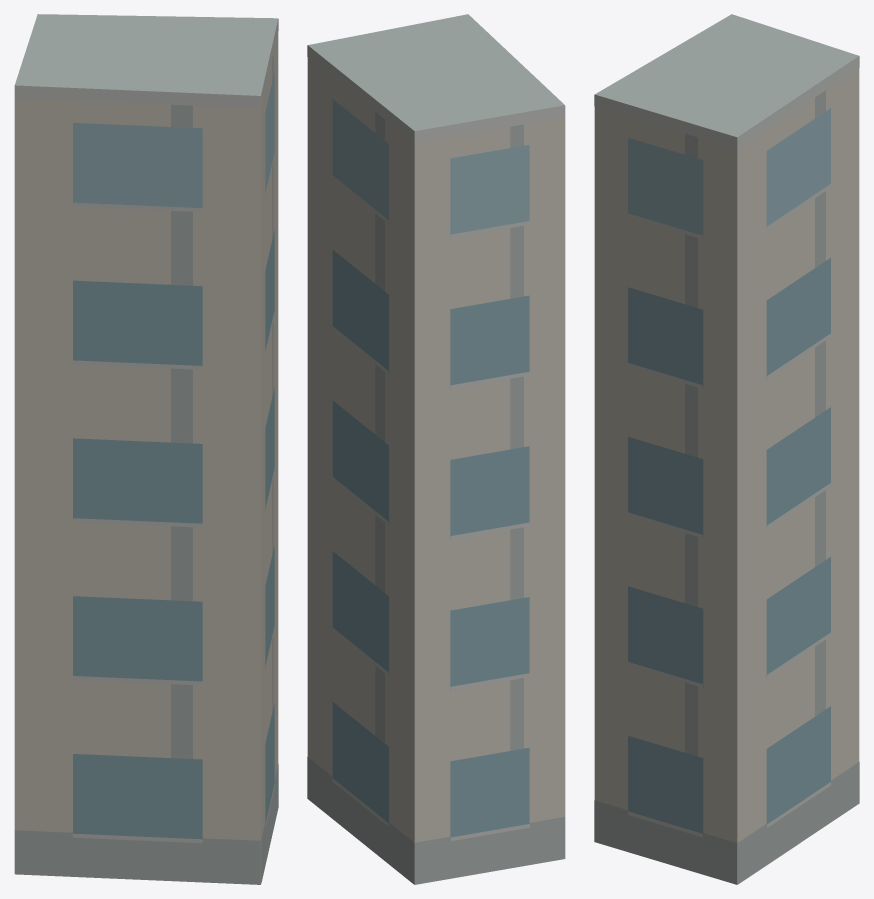
Rendered from survey-upis-32506184.glb.
3 views of the same model, side by side, from view 1: azimuth 30°, elevation 25°; view 2: azimuth 150°, elevation 25°; view 3: azimuth 270°, elevation 25° (orthographic). The views are drawn at different scales.
Parts seen in each view (by area): view 1: survey-upis-32506184.tmp; view 2: survey-upis-32506184.tmp; view 3: survey-upis-32506184.tmp.
Part boxes in pixels (x1,y1,x2,y2): survey-upis-32506184.tmp: [14, 14, 278, 884]; survey-upis-32506184.tmp: [307, 14, 565, 884]; survey-upis-32506184.tmp: [594, 14, 859, 884].
Bounding box in the file's own units: 5.4 × 15.25 × 4.9.
